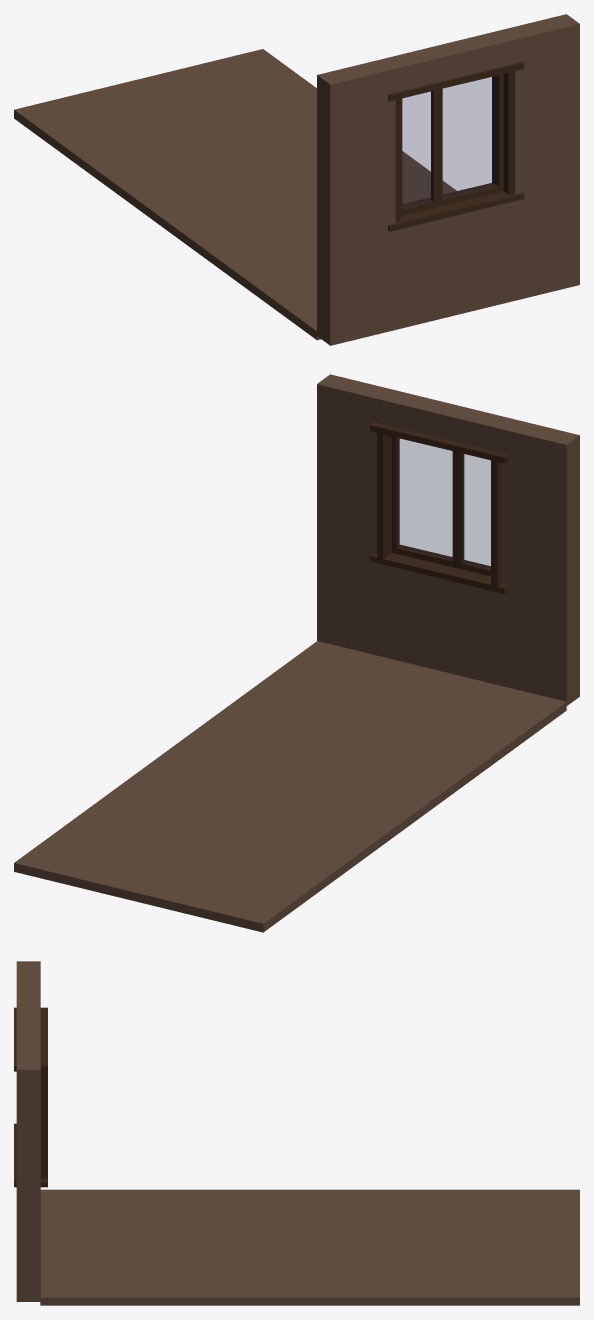
File: Middle_floor_small_window_type1.FBX
3 views of the same model, one above another, from view 1: azimuth 30°, elevation 25°; view 2: azimuth 150°, elevation 25°; view 3: azimuth 270°, elevation 25° (orthographic). The views are drawn at different scales.
Parts seen in each view (by area): view 1: Hub_floor_type_2_002; view 2: Hub_floor_type_2_002; view 3: Hub_floor_type_2_002.
Boxes of the visible parts, <box> form: Hub_floor_type_2_002: <box>14,14,579,345</box>; Hub_floor_type_2_002: <box>14,374,579,932</box>; Hub_floor_type_2_002: <box>14,961,579,1305</box>.
Bounding box in the file's own units: 280 × 618 × 284.
